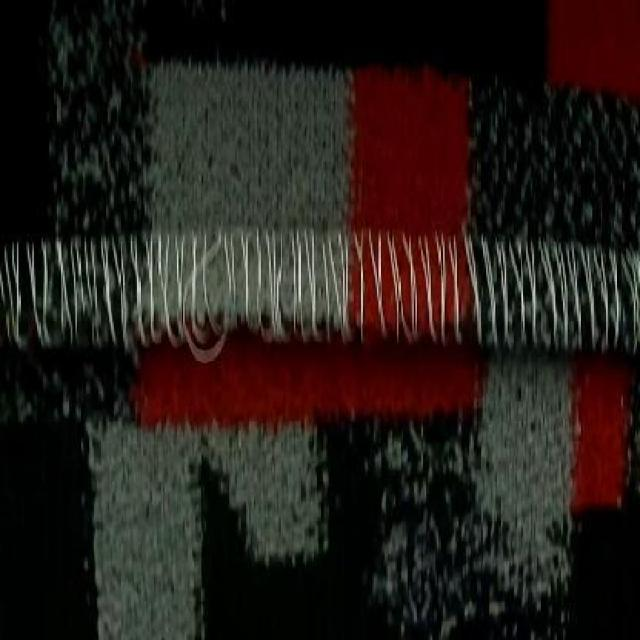gray stitch: (3, 224, 640, 359)
